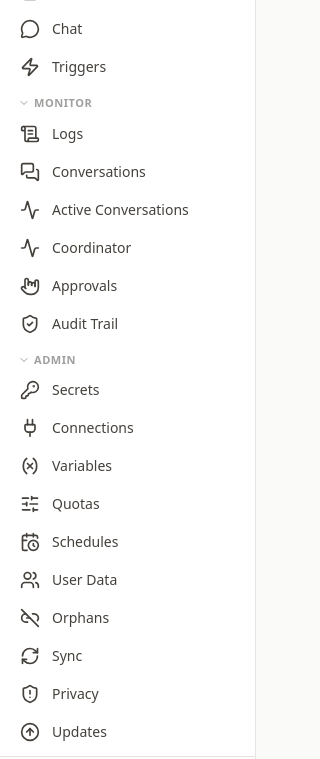
it: Sidebar — collapsible sections › hides section items when section header is clicked
(page scrolled)
Click the button "Admin": [128, 360] box [6,352,249,368]
(page scrolled)
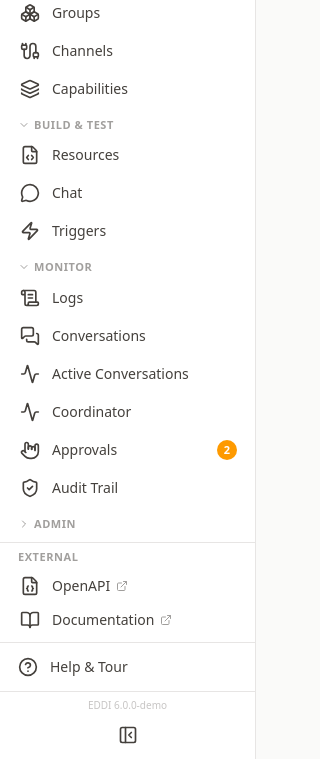
Expected: the text "Logs" is shown, [52,288,83,308]
Now the link "Secrets" is gone
